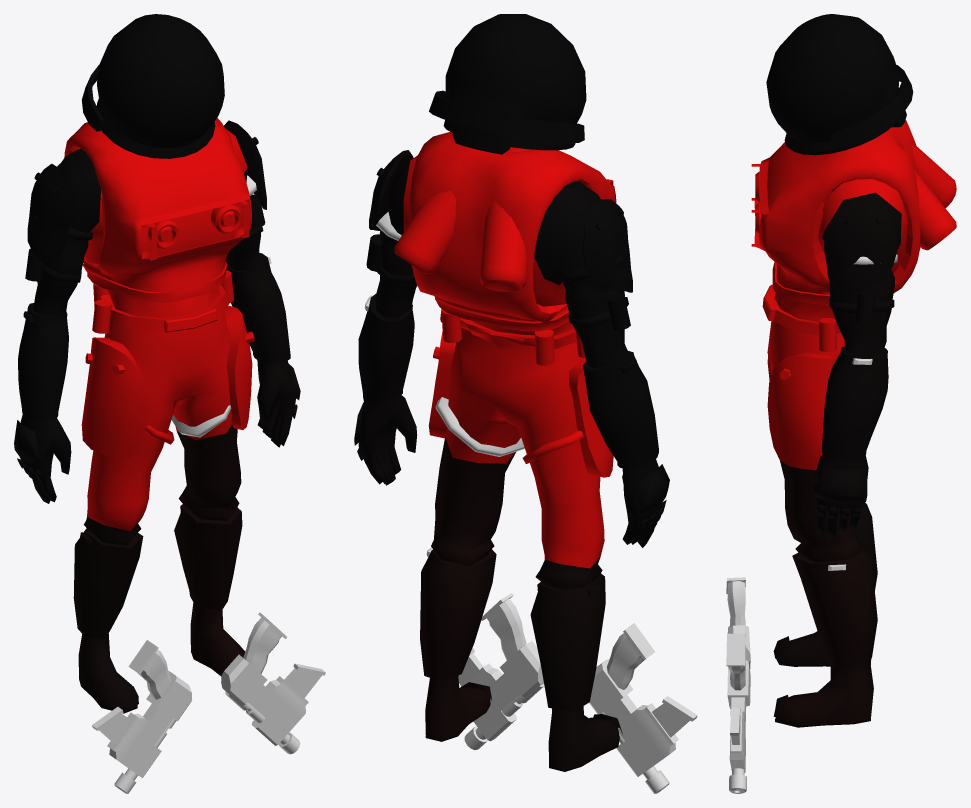
Rendered from Commando.fbx.
The picture shows the model from 3 angles, left to right: view 1: azimuth 30°, elevation 25°; view 2: azimuth 150°, elevation 25°; view 3: azimuth 270°, elevation 25°; orthographic projection. The views are drawn at different scales.
Parts seen in each view (by area): view 1: CommandoMesh, GunMesh.001, GunMesh; view 2: CommandoMesh, GunMesh, GunMesh.001; view 3: CommandoMesh, GunMesh.001, GunMesh.
Boxes of the visible parts, left/top/right/bottom form: CommandoMesh: left=14, top=14, right=300, bottom=713; GunMesh.001: left=221, top=612, right=325, bottom=754; GunMesh: left=92, top=640, right=192, bottom=793; CommandoMesh: left=354, top=14, right=669, bottom=771; GunMesh: left=589, top=623, right=697, bottom=793; GunMesh.001: left=458, top=593, right=544, bottom=749; CommandoMesh: left=751, top=14, right=956, bottom=727; GunMesh.001: left=726, top=633, right=750, bottom=793; GunMesh: left=726, top=577, right=750, bottom=709.
Bounding box in the file's own units: 83.5 × 214 × 60.8.
